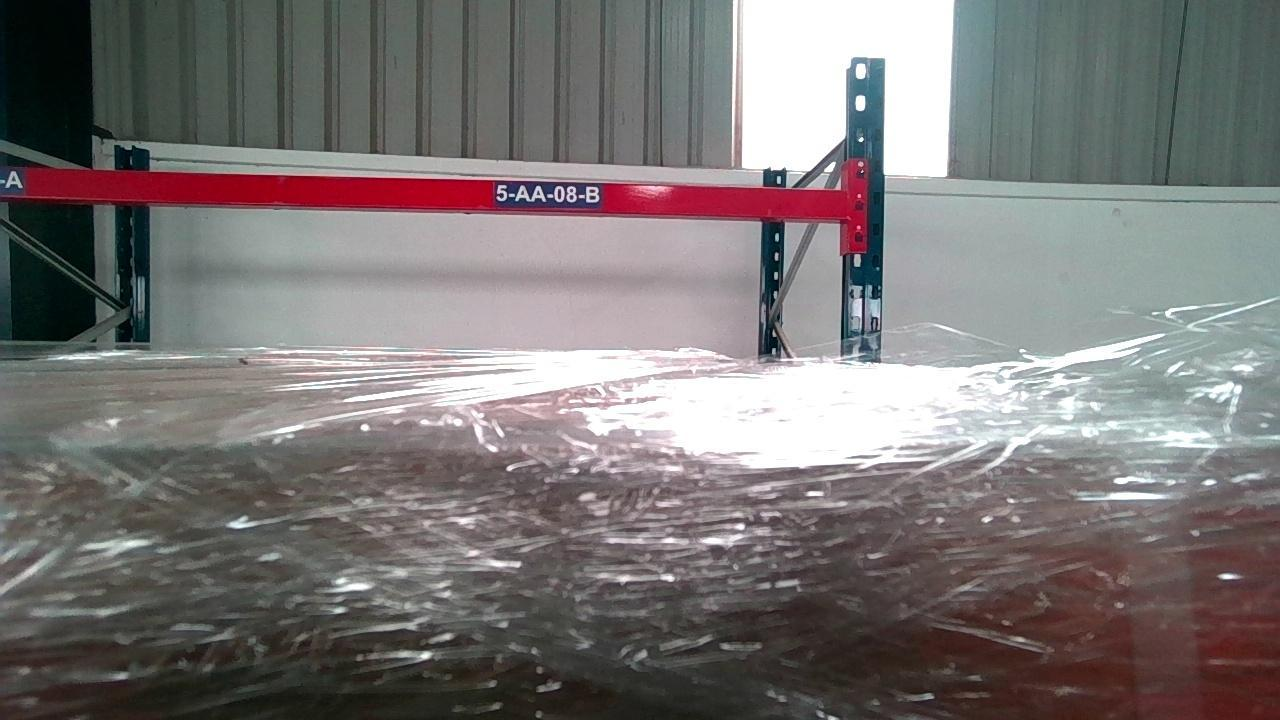h_rack: (0, 167, 850, 218)
